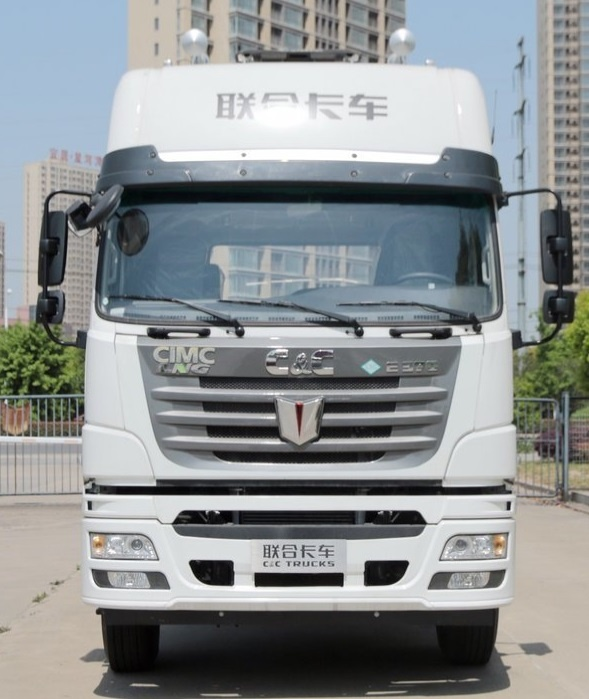heavy truck: (33, 60, 527, 679)
